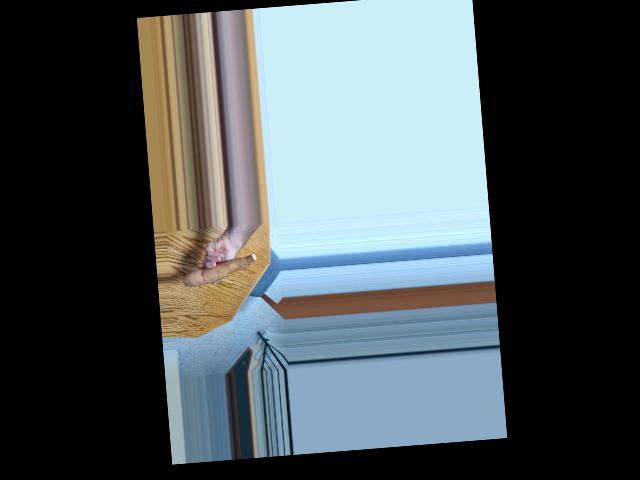sweet_potato: (184, 252, 256, 291)
